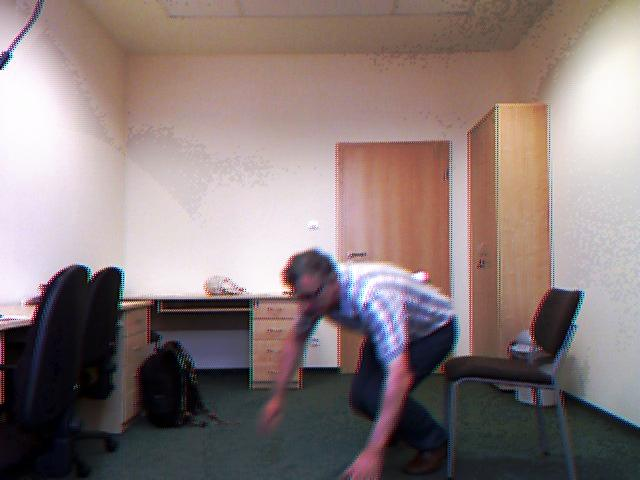near-fall: (244, 238, 492, 480)
